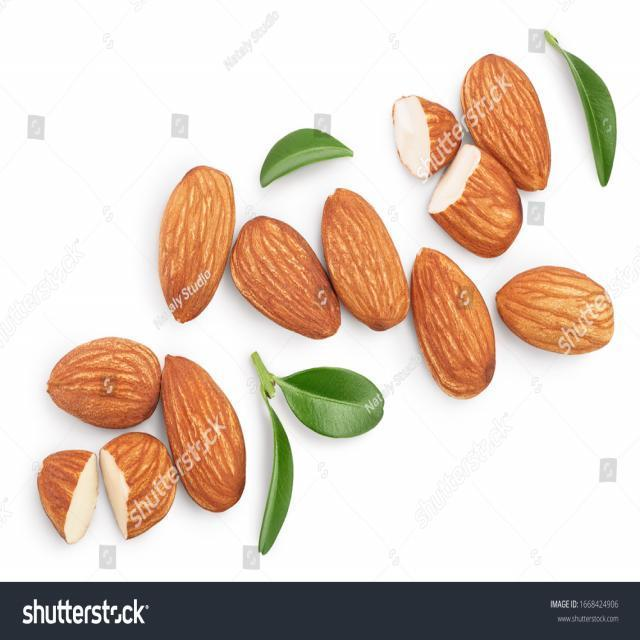almond: (232, 213, 345, 337), (410, 244, 497, 399), (160, 355, 247, 510), (322, 183, 412, 332), (462, 50, 553, 193), (157, 163, 237, 325), (45, 335, 162, 427), (498, 265, 615, 352)
